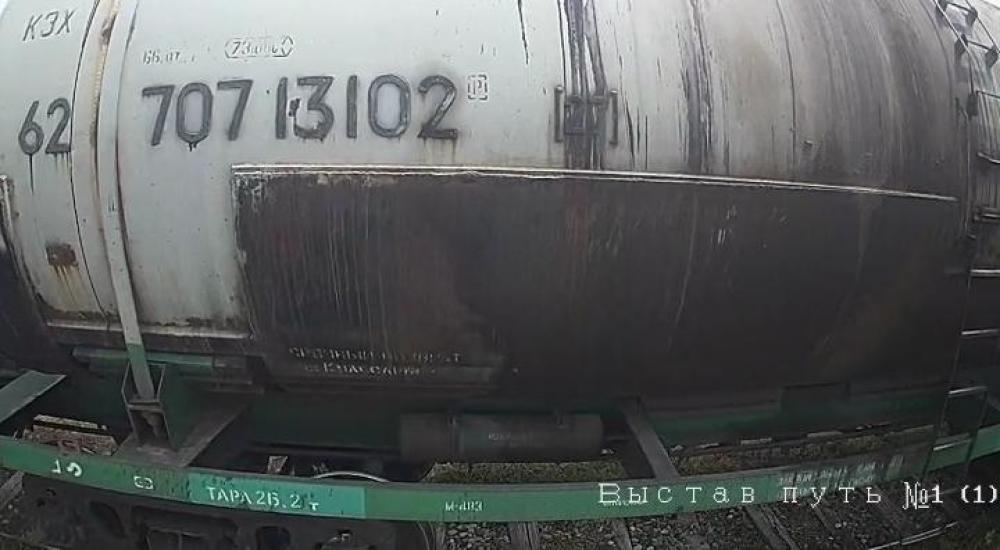Wagon-number: (138, 74, 463, 148)
